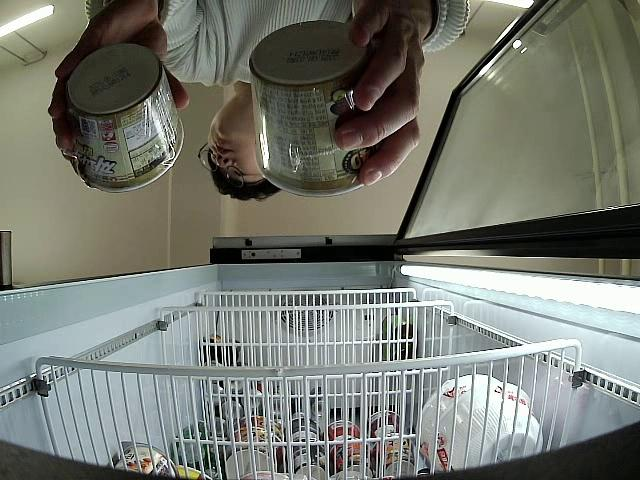00_hand: (47, 8, 187, 191), (330, 4, 419, 187)
04_chapagetti_S: (251, 21, 386, 197), (64, 42, 186, 193)
